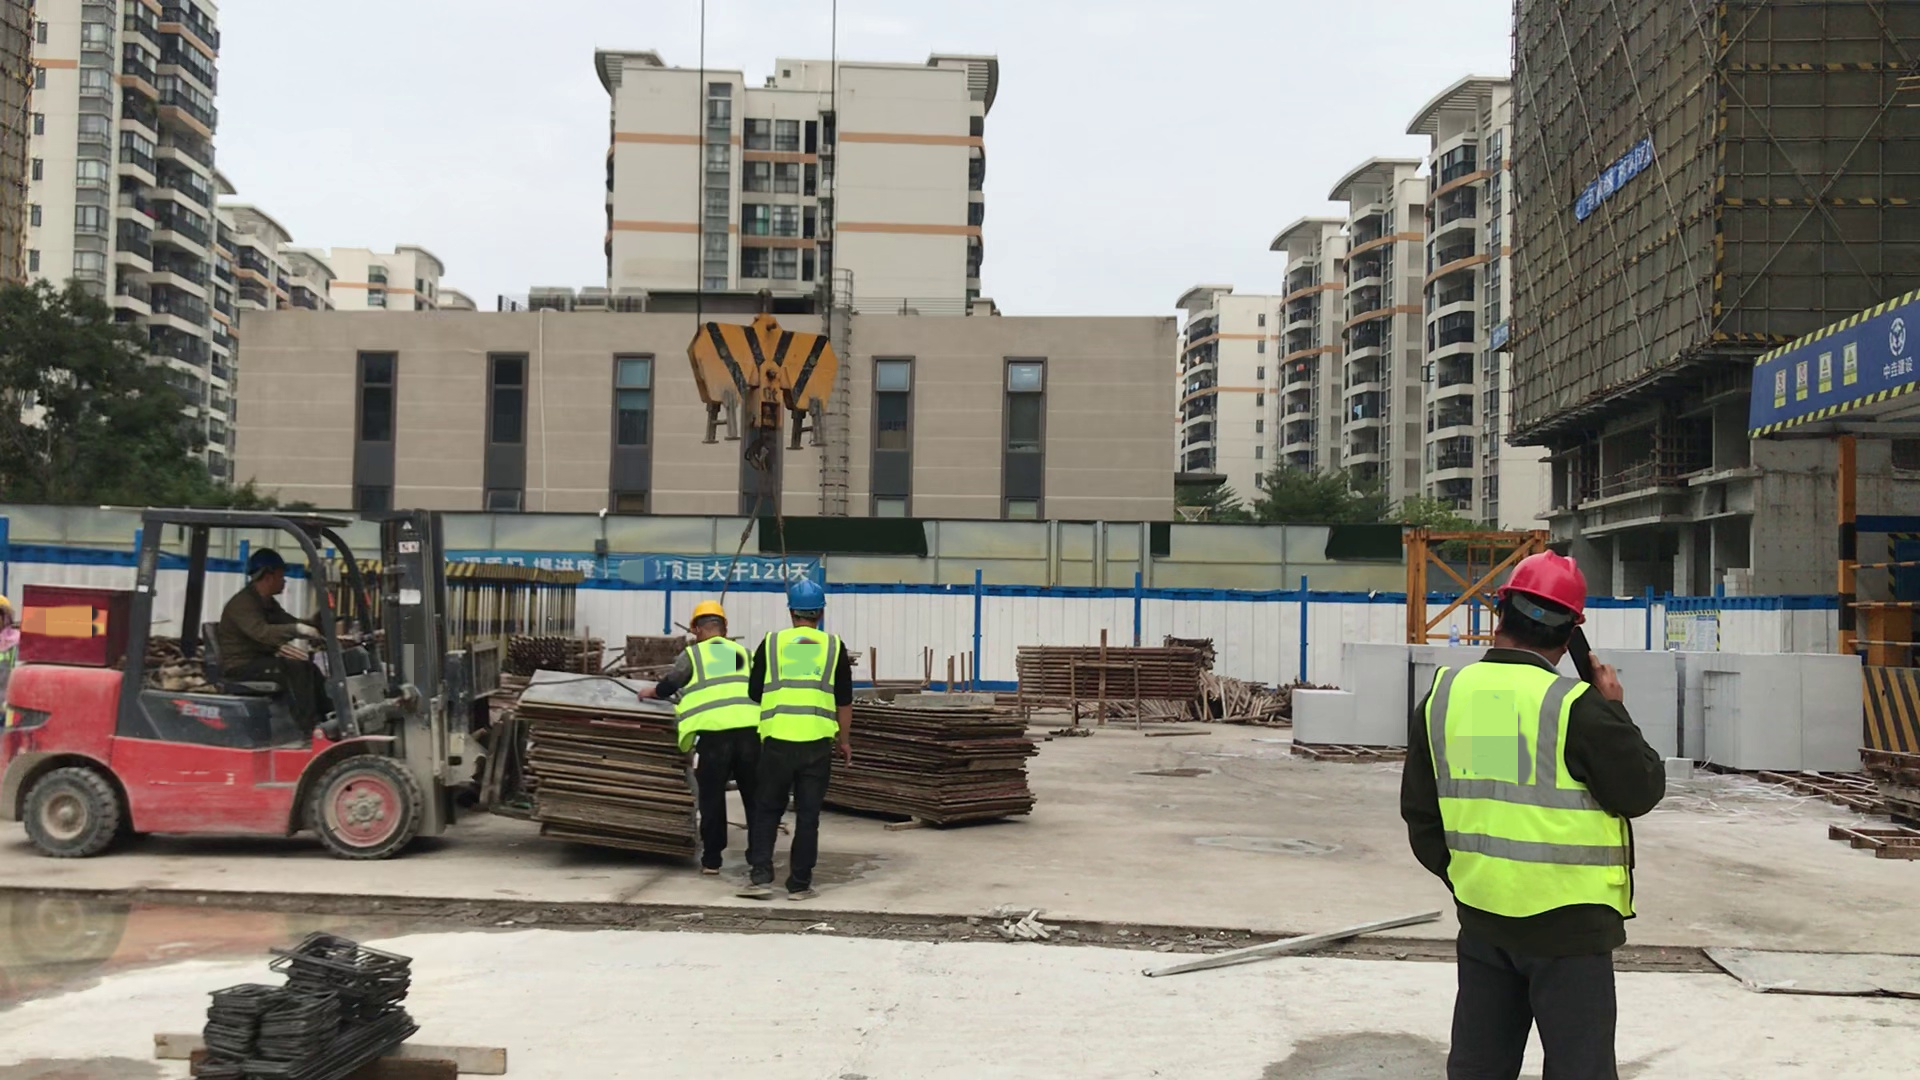board: (513, 647, 714, 877), (822, 685, 1050, 853)
brick: (1288, 634, 1872, 796)
fence: (1849, 554, 1920, 671)
helmet: (1489, 546, 1608, 633), (780, 578, 835, 617), (242, 544, 286, 585), (684, 599, 738, 629)
hook: (669, 274, 876, 515)
person: (1395, 547, 1694, 1079), (755, 577, 858, 911), (658, 596, 761, 893), (221, 538, 336, 710)
scaffold: (1006, 636, 1223, 707)
slogan: (1749, 282, 1920, 447), (444, 545, 829, 604), (1548, 135, 1671, 228), (1483, 315, 1515, 357)
vest: (1406, 650, 1653, 928), (759, 622, 845, 759), (667, 634, 753, 745)
